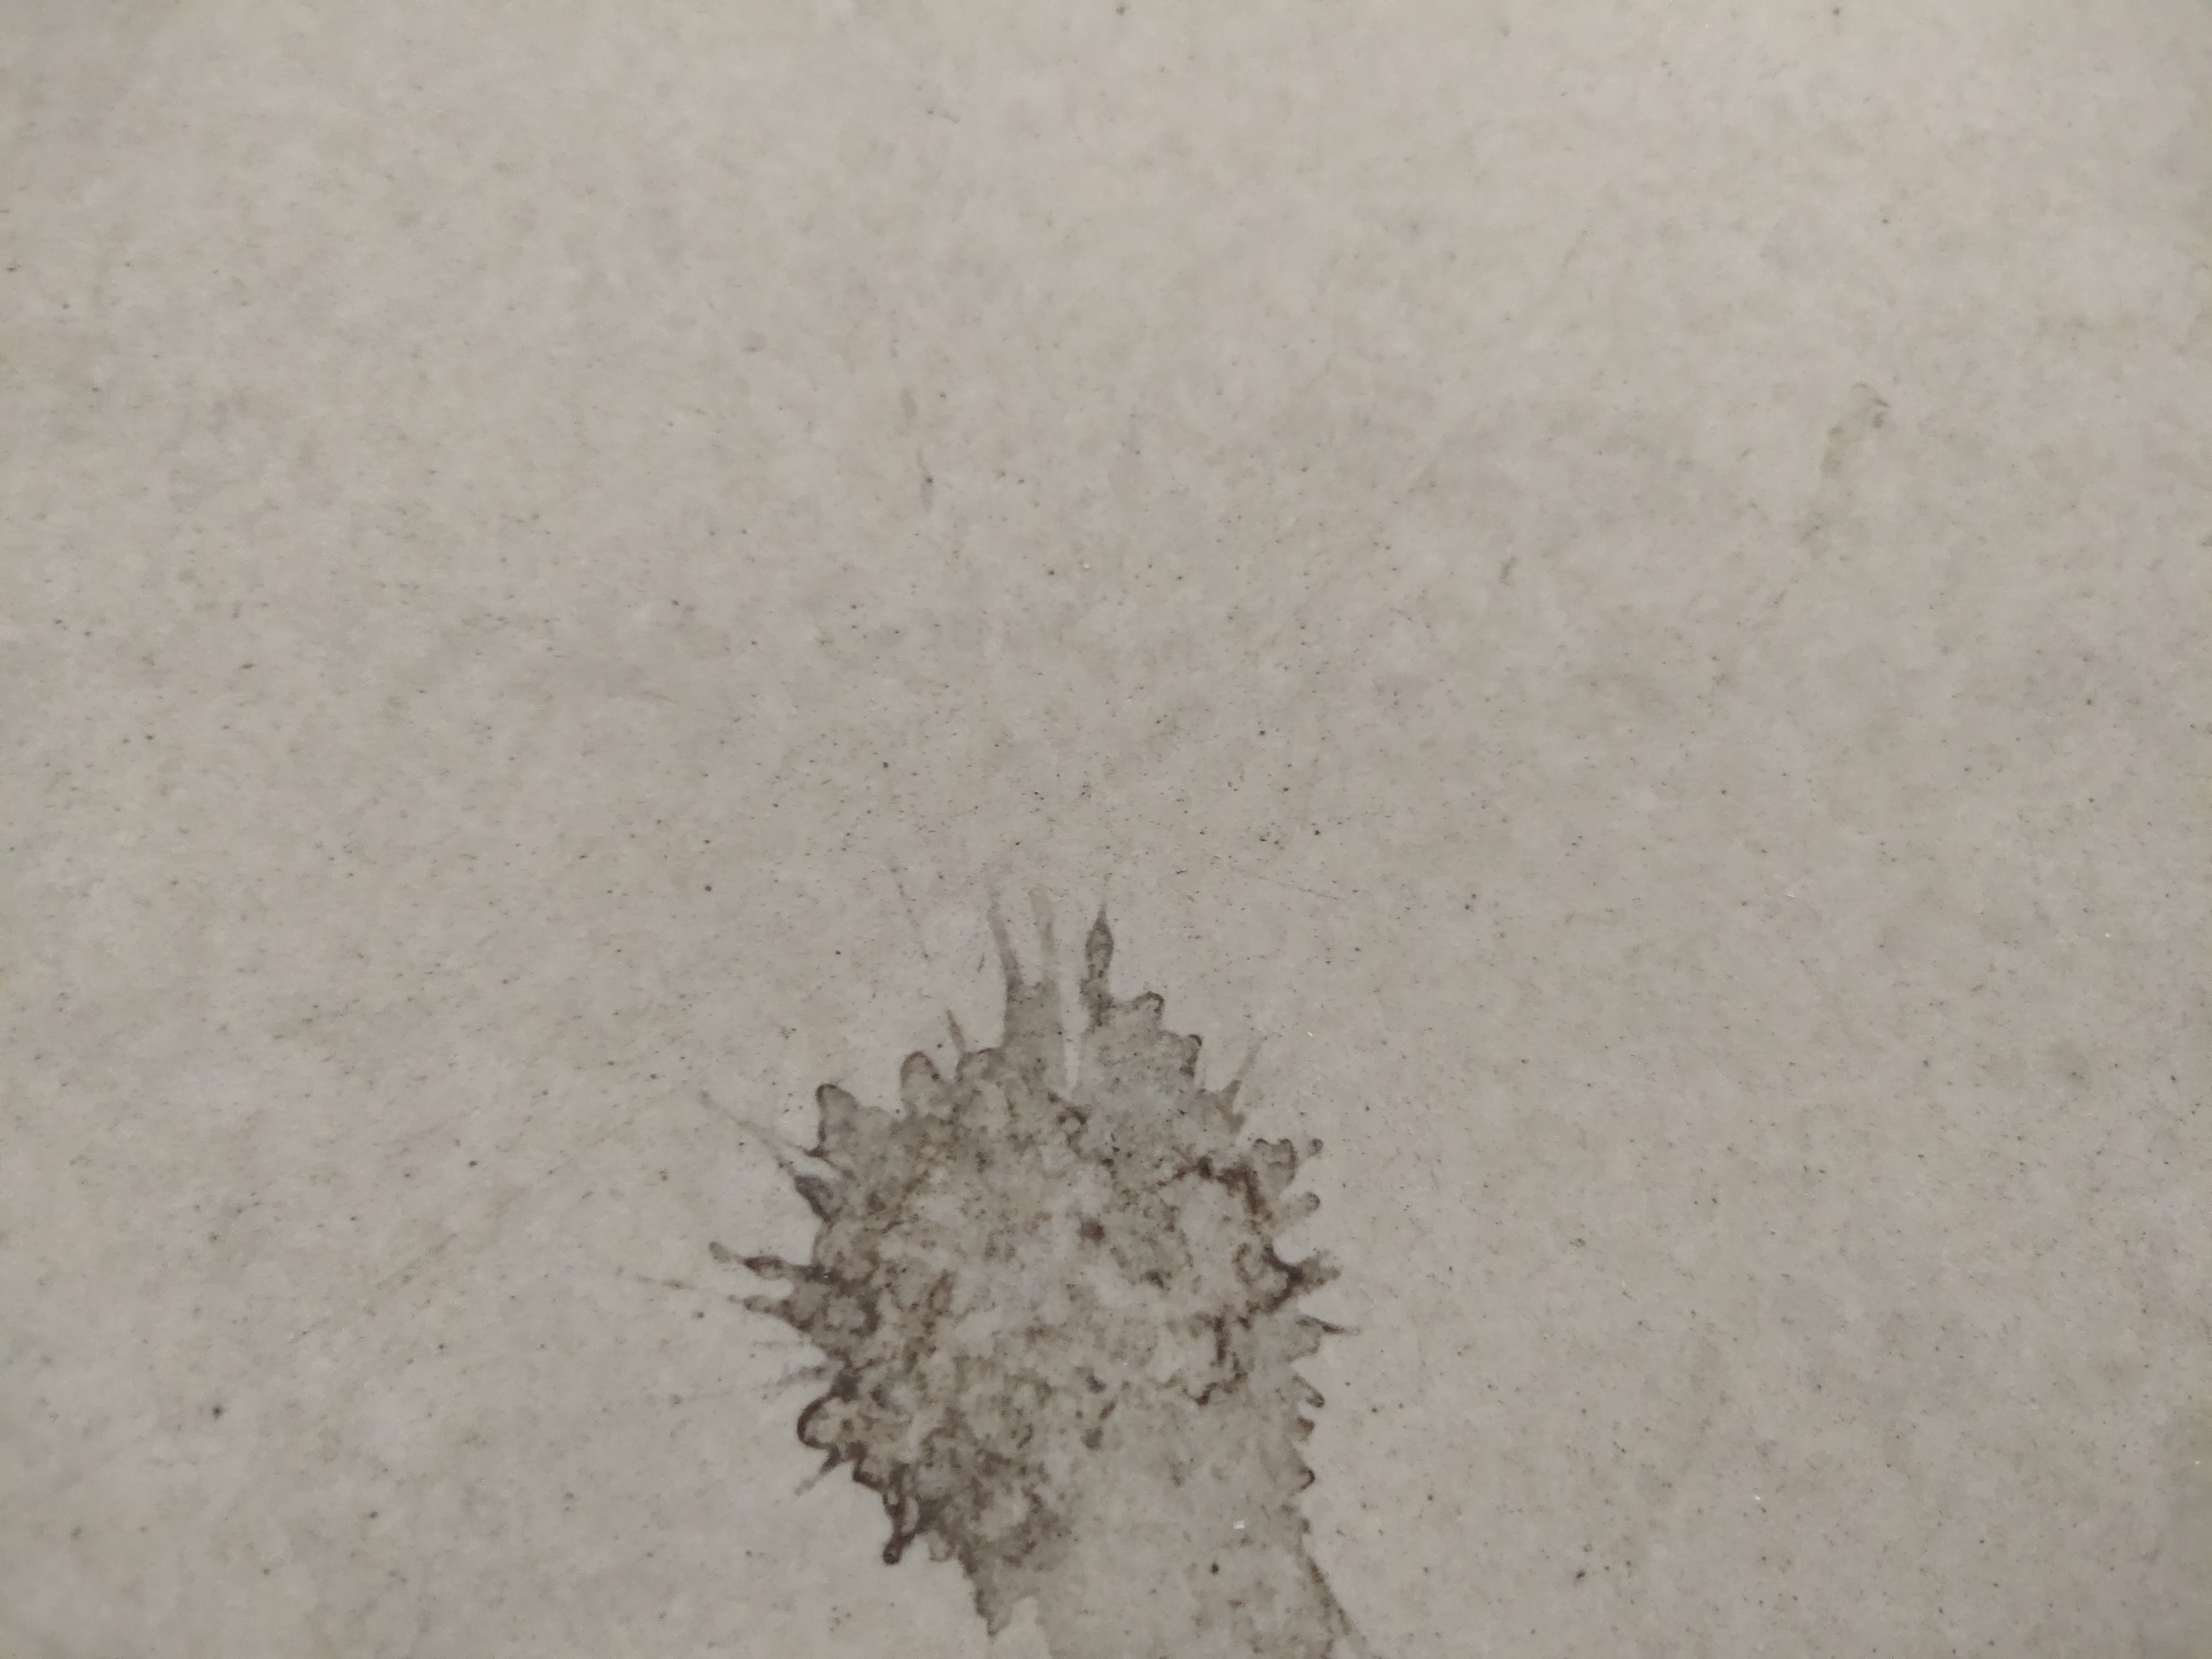grey spot: (709, 906, 1371, 1659)
